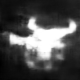plane: (4, 15, 80, 71)
